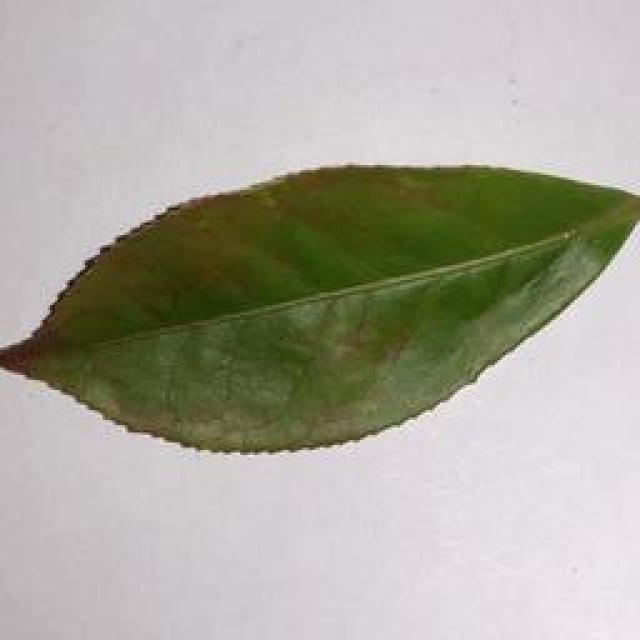Red Leaf Spot: (0, 143, 640, 474)
